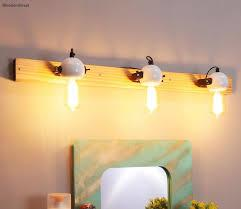light: (56, 49, 98, 115), (136, 56, 167, 118), (208, 59, 234, 122)
